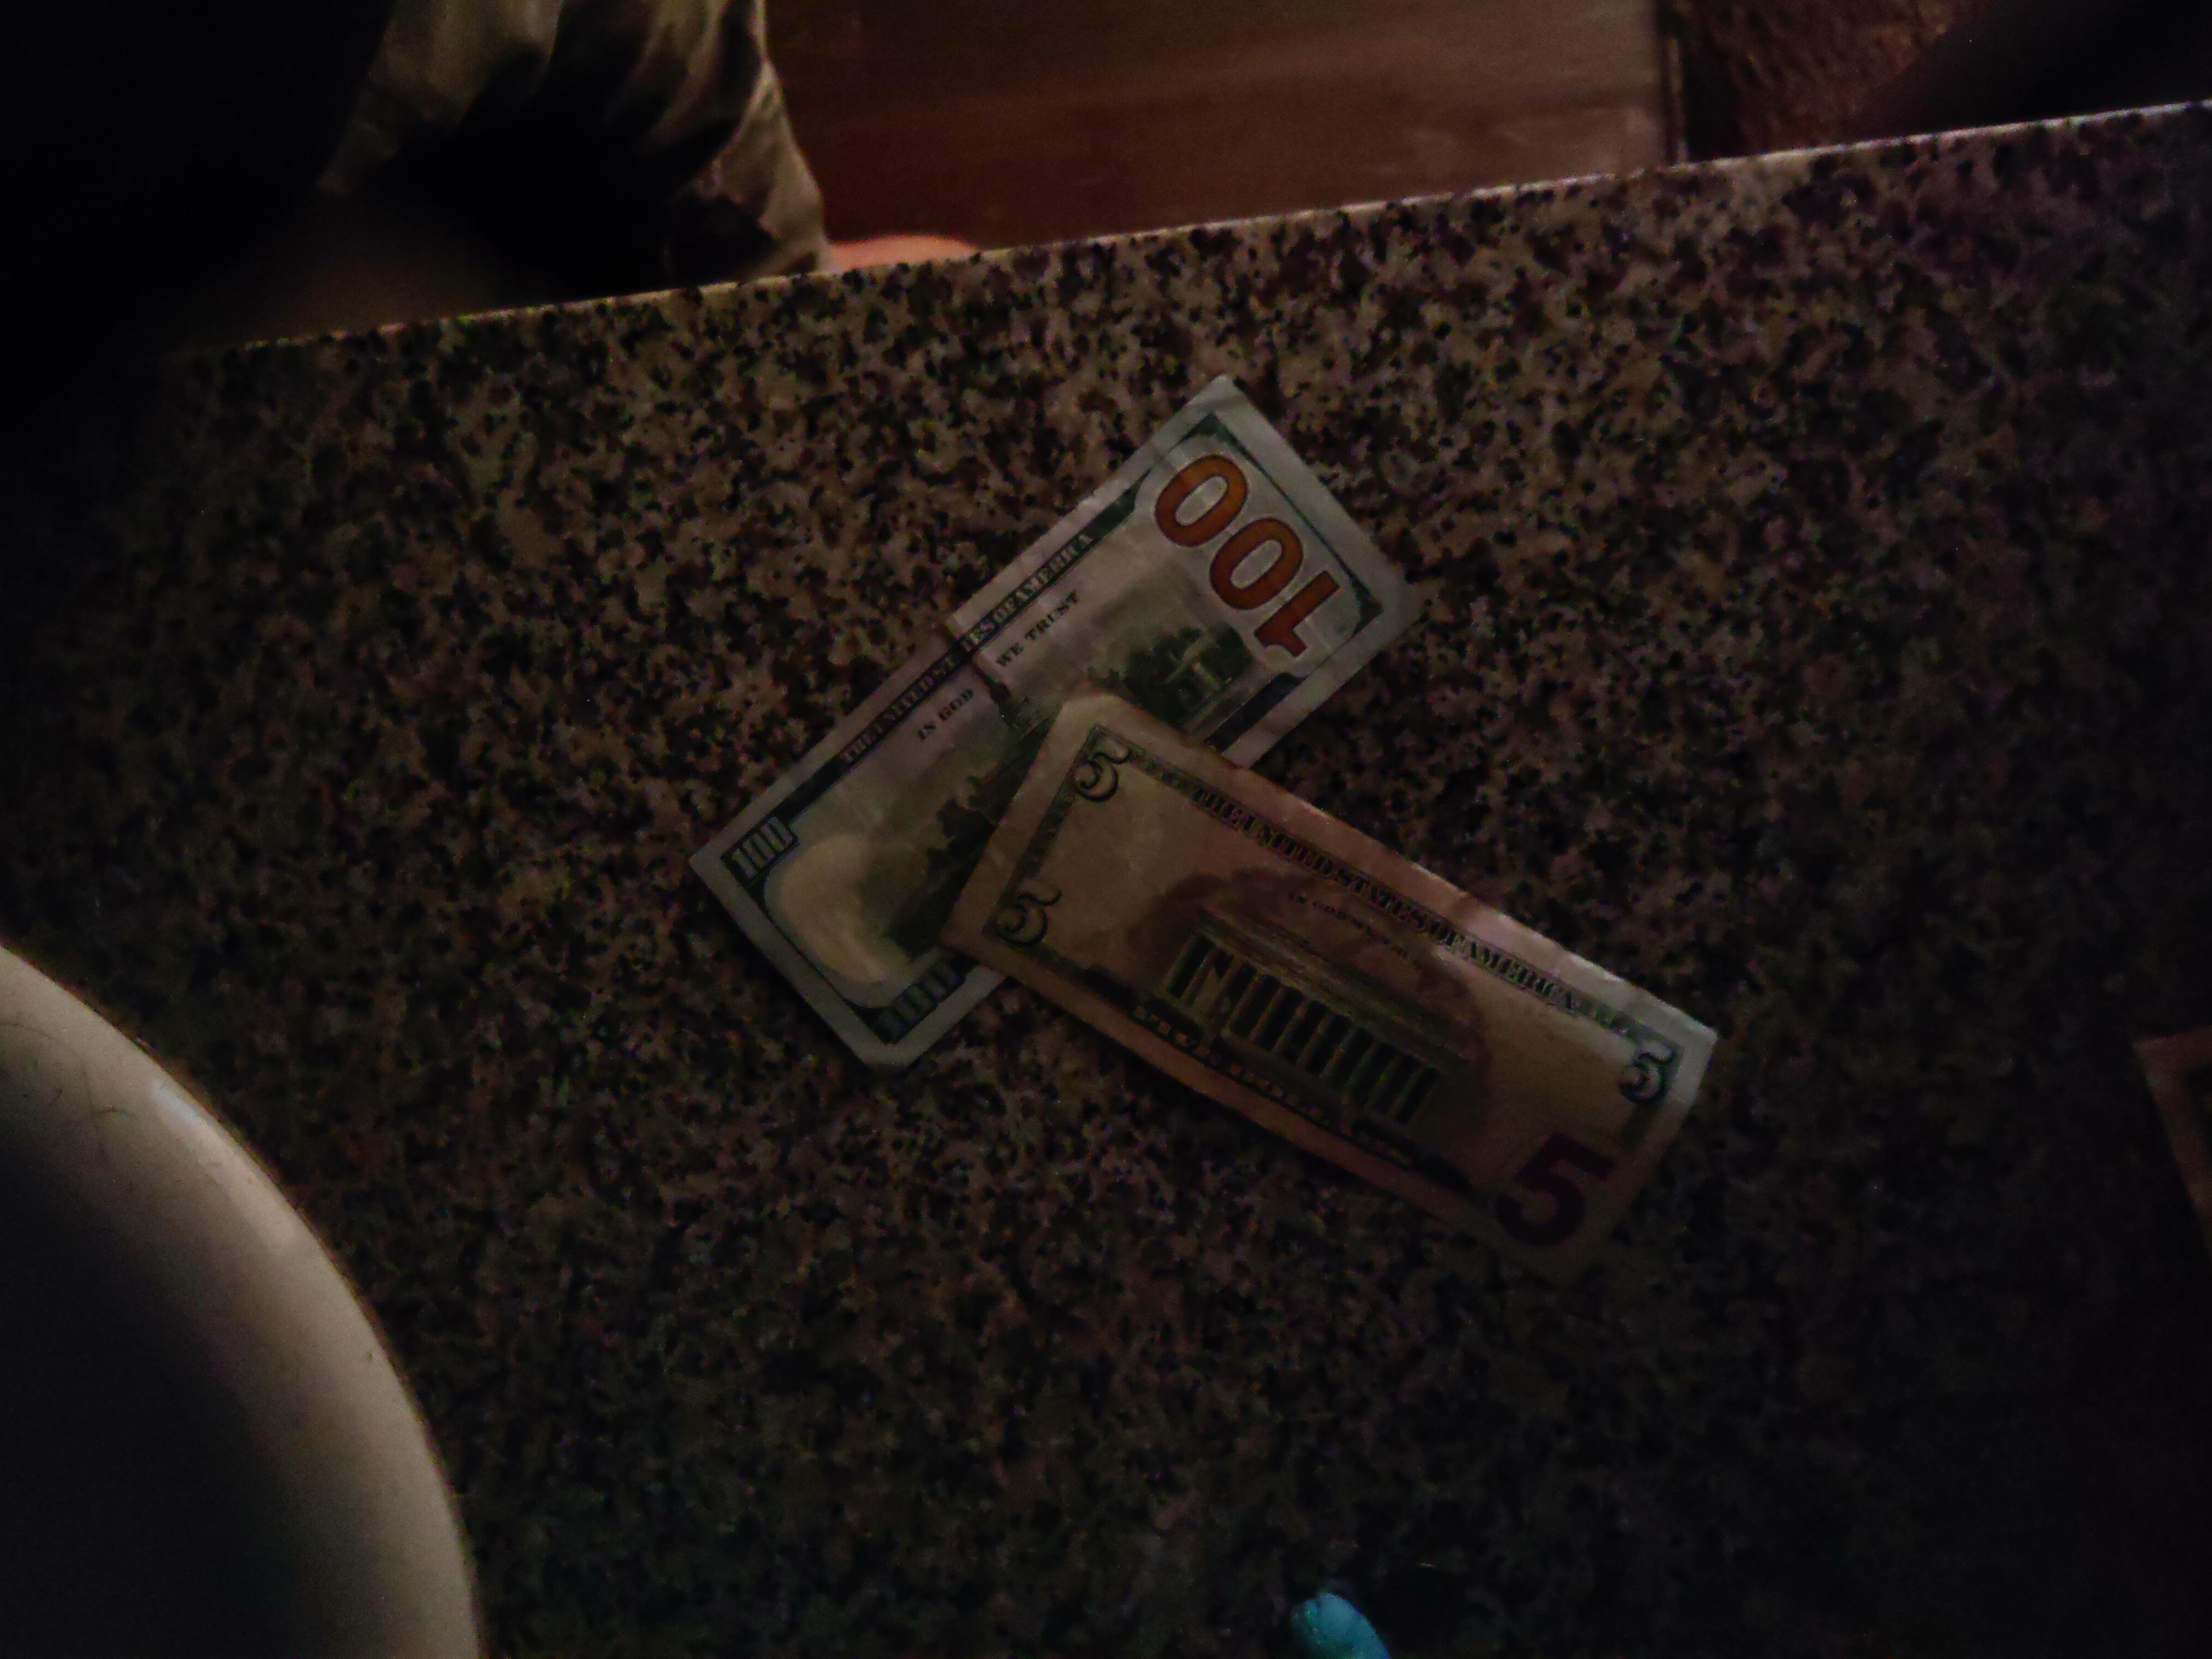FiveBill: (939, 678, 1726, 1293)
HundredBill: (679, 369, 1432, 1082)
